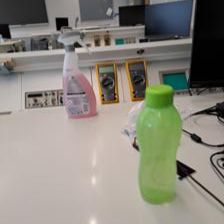bottle: (134, 82, 182, 205)
